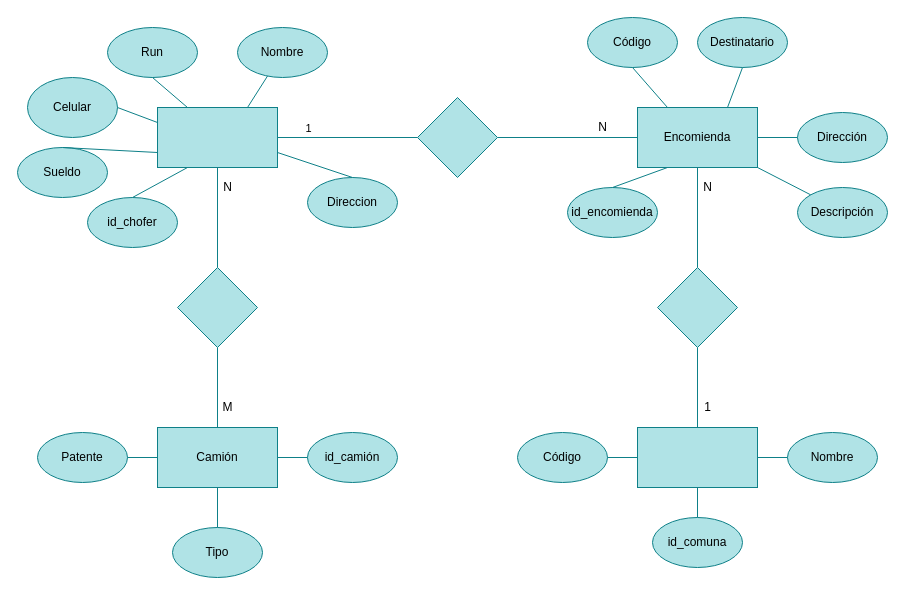
The diagram is 905 pixels wide and 595 high, and some of its shapes have lost their labels. The shapes that lost their labels are listed below. From the top down, each one's centre as x and y in pixels, then its label:
[217,137]: Chofer
[457,137]: Distribuye
[217,307]: Conduce
[697,307]: Recibe
[697,457]: Comuna
